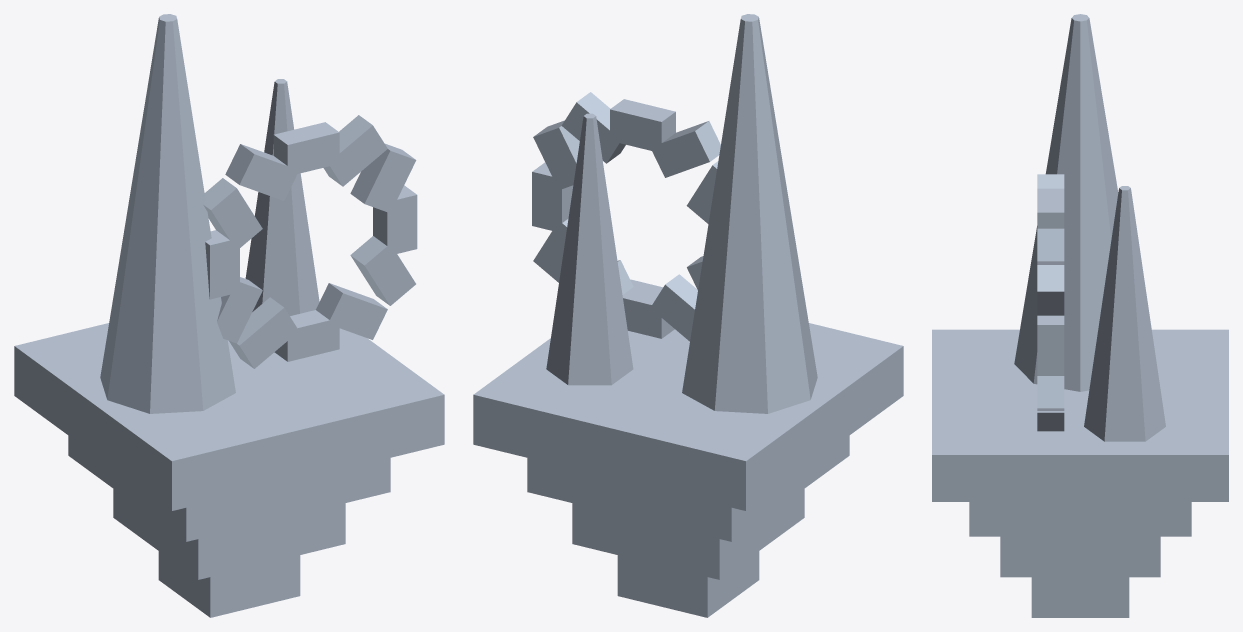
Rendered from sil_w4.glb.
The picture shows the model from 3 angles, left to right: view 1: azimuth 30°, elevation 25°; view 2: azimuth 150°, elevation 25°; view 3: azimuth 270°, elevation 25°; orthographic projection. The views are drawn at different scales.
Parts seen in each view (by area): view 1: SilW4; view 2: SilW4; view 3: SilW4.
Boxes of the visible parts, bbox=[...] form: SilW4: bbox=[14, 14, 444, 617]; SilW4: bbox=[473, 14, 903, 617]; SilW4: bbox=[932, 14, 1228, 617].
Bounding box in the file's own units: 22.1 × 41 × 20.
